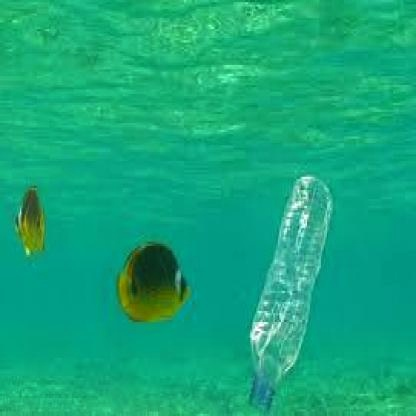pbottle: (241, 167, 336, 416)
